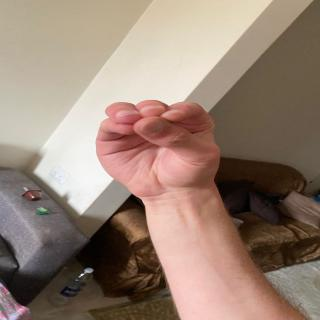HA: (85, 98, 242, 191)
